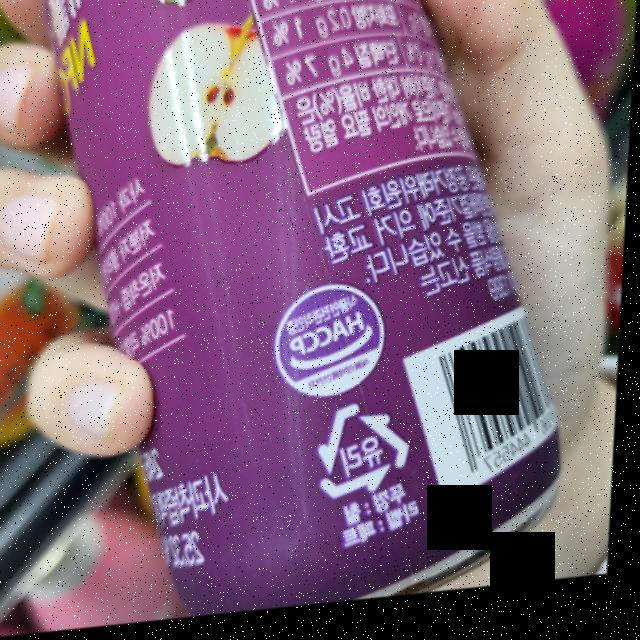Glass: (322, 399, 418, 511)
